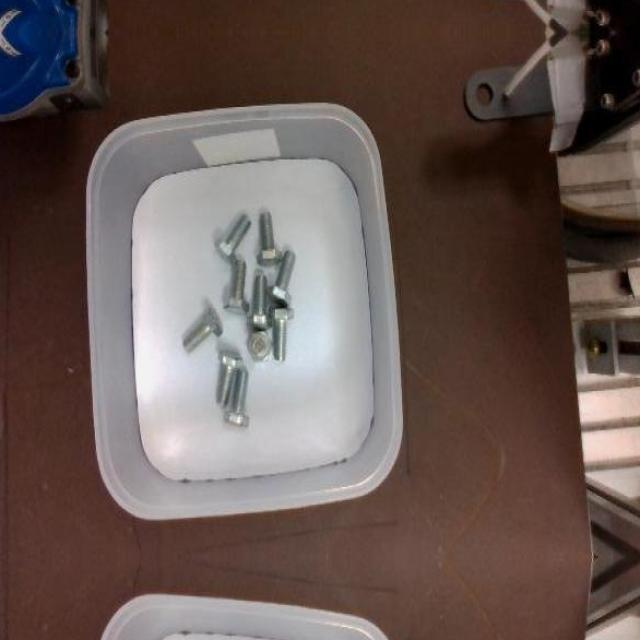screw: (182, 304, 224, 352), (215, 213, 252, 263), (266, 249, 296, 306), (216, 349, 244, 406), (224, 370, 252, 427), (224, 260, 250, 315), (256, 211, 282, 265), (268, 304, 294, 358), (247, 273, 272, 328), (248, 330, 274, 362)
